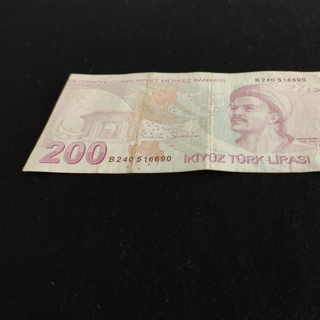200TLBack: (21, 68, 320, 174)
